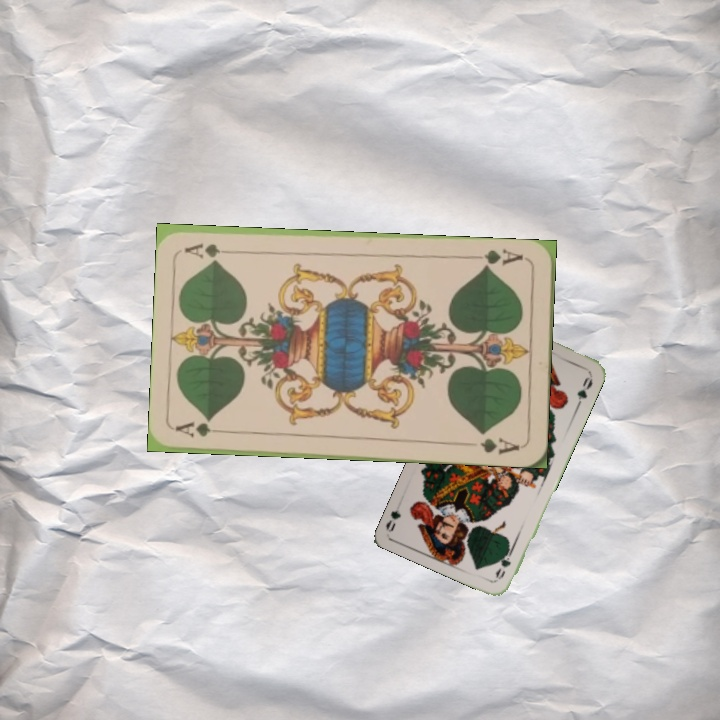GA: (470, 245, 529, 271), (173, 418, 232, 440)
GO: (491, 542, 517, 582)
